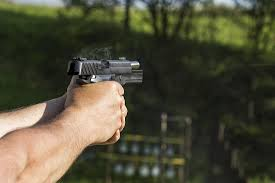gun: (67, 54, 146, 88)
